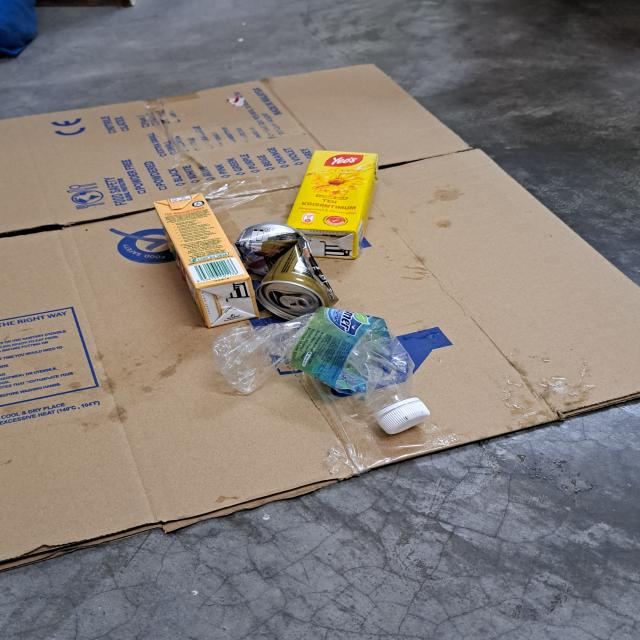can: (239, 225, 335, 318)
cardboard: (0, 63, 640, 570)
drink carton: (158, 196, 259, 330), (285, 148, 376, 258)
plastic bottle: (214, 312, 433, 439)
plastic bottle cap: (373, 393, 432, 438)
